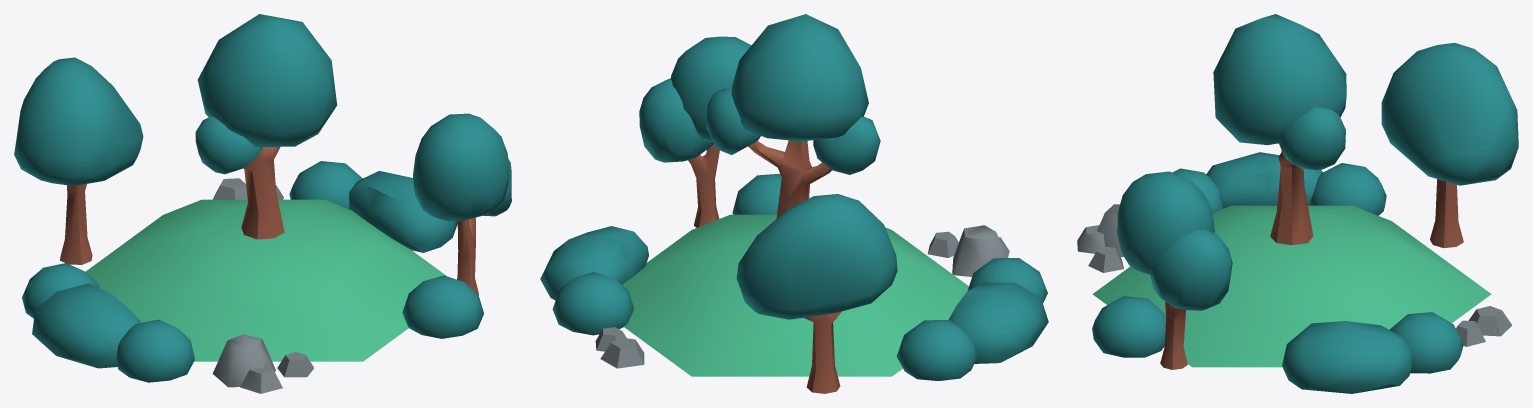
The model's file is detail_hill.glb.
3 renders of one model, left to right at view 1: azimuth 30°, elevation 25°; view 2: azimuth 150°, elevation 25°; view 3: azimuth 270°, elevation 25°, orthographic.
Visible parts, largest first — view 1: detail_hill; view 2: detail_hill; view 3: detail_hill.
Part boxes in pixels (x1,y1,x2,y2): detail_hill: [14, 14, 511, 393]; detail_hill: [540, 14, 1048, 393]; detail_hill: [1077, 14, 1518, 393].
Bounding box in the file's own units: 7.28 × 4.4 × 6.35.
